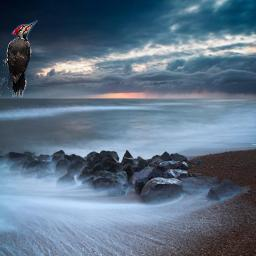Woodpecker: (0, 20, 40, 97)
